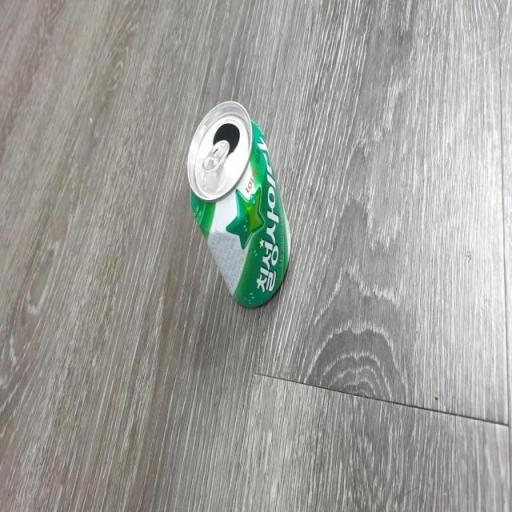metal: (157, 68, 307, 334)
